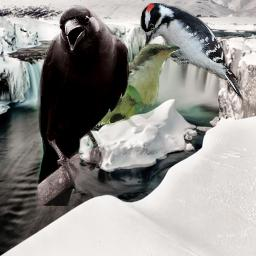Crow: (35, 5, 129, 206)
Cuckoo: (97, 43, 180, 127)
Woodpecker: (139, 1, 247, 103)
